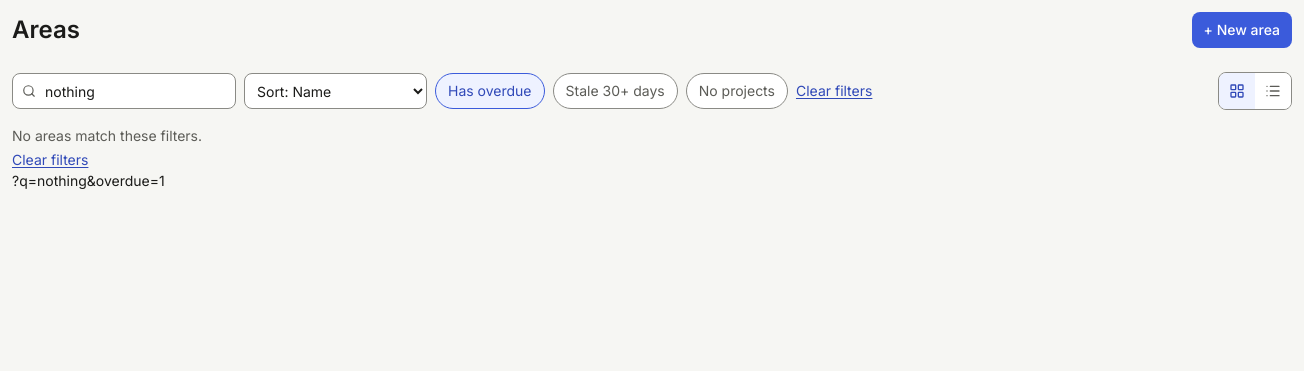
Test case: AreasPage › reads state from the URL, shows an empty result and clears it
Check: the text "No areas match these filters." is shown, box [12,127,202,144]
Click the button "Clear filters" below "No areas match these filters.".
click(50, 160)  # box [12,150,88,170]
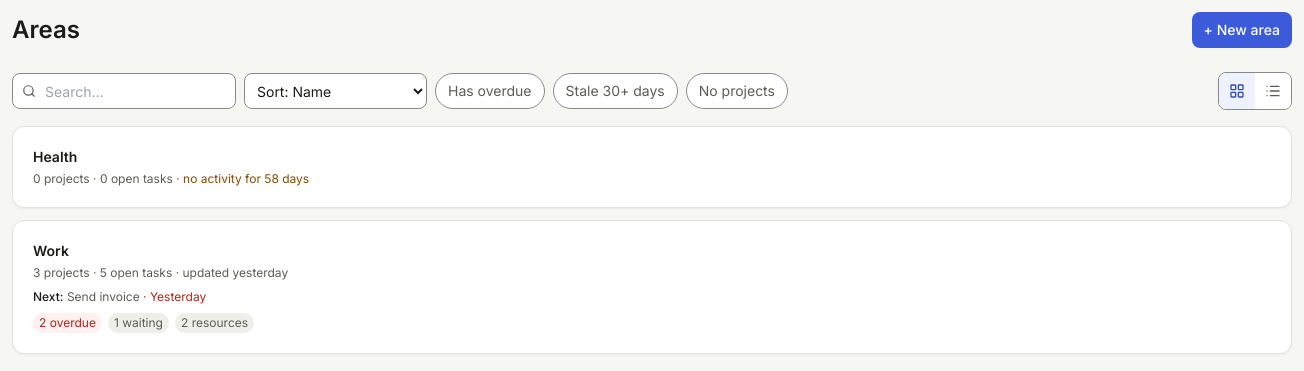
Check: the heading "Work" is shown, box [33,242,69,259]
